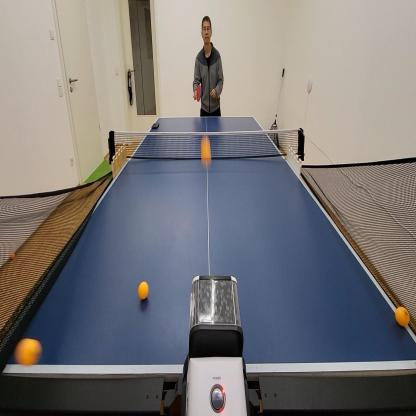Ball: (14, 336, 43, 368), (200, 134, 212, 170), (394, 304, 410, 329), (138, 279, 149, 301), (10, 251, 16, 261)
